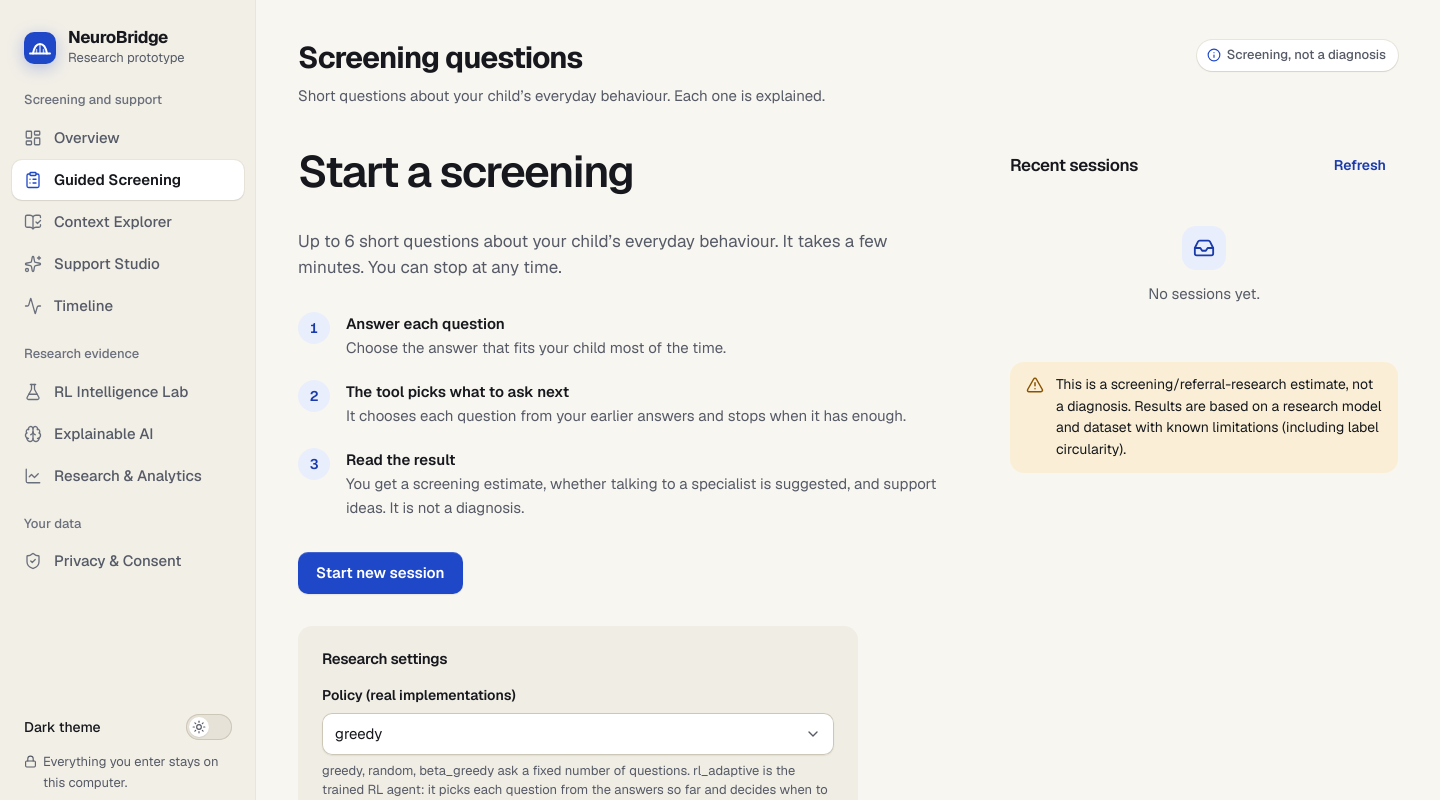
Test case: guided screening › shows a warning instead of Yes/No when the backend sends no answer options
The width and height of the screenshot is (1440, 800).
What coordinates should you click on to do the following:
click the button "Start new session"
I would click on:
 (380, 573)
Its box is [298,552,462,594].
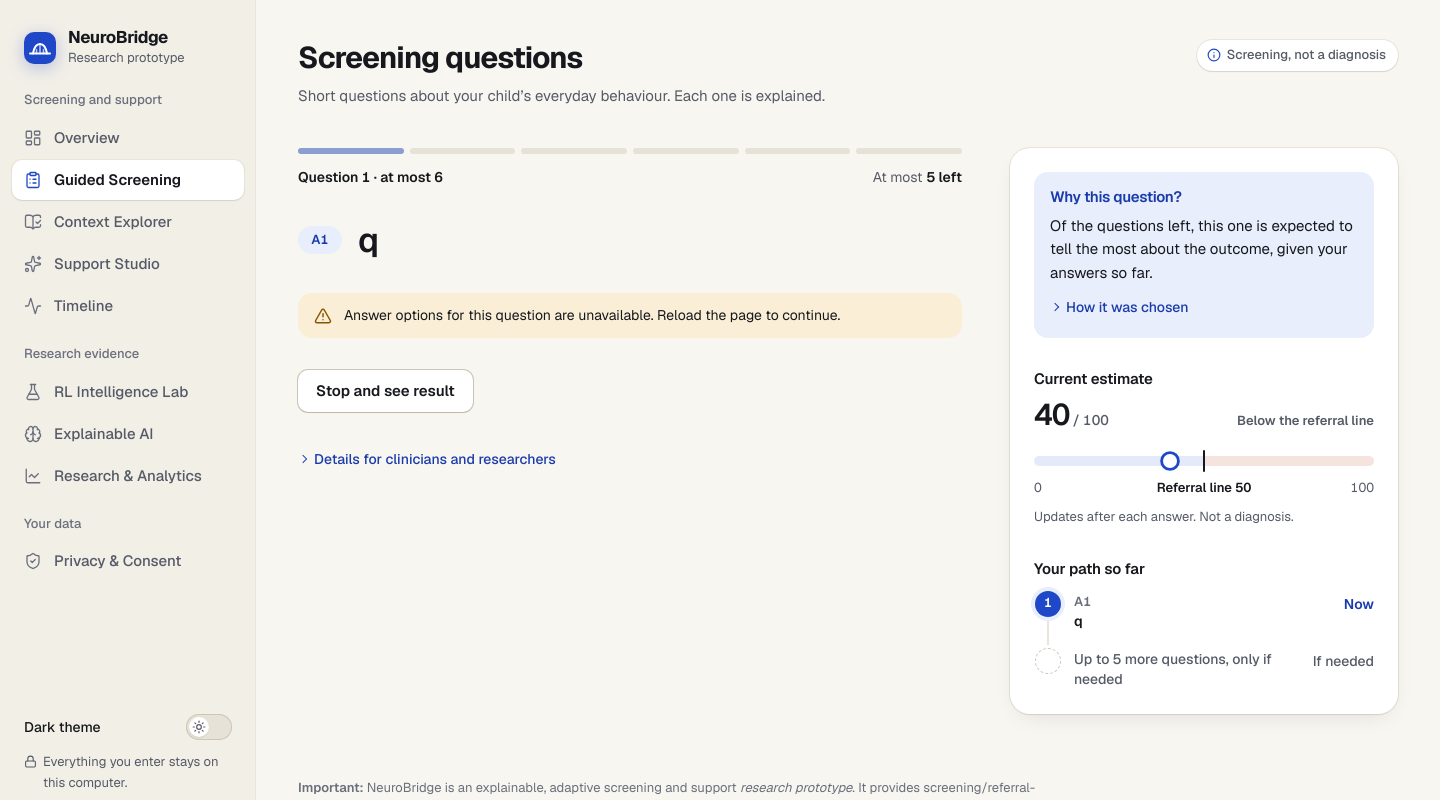
expect the text "Answer options for this question are unavailable" is shown: met, box [344,306,840,324]
